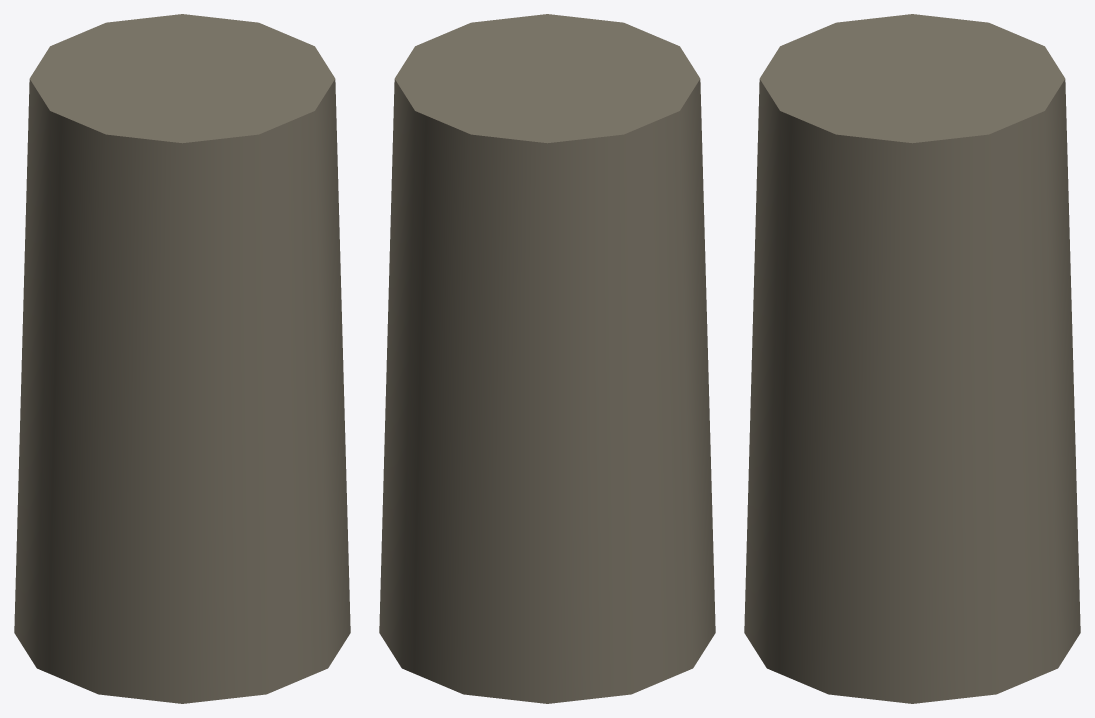
File: column-closed.glb
The picture shows the model from 3 angles, left to right: view 1: azimuth 30°, elevation 25°; view 2: azimuth 150°, elevation 25°; view 3: azimuth 270°, elevation 25°; orthographic projection.
Parts seen in each view (by area): view 1: column-closed; view 2: column-closed; view 3: column-closed.
Part boxes in pixels (<box>): column-closed: <box>14,14,350,703</box>; column-closed: <box>379,14,715,703</box>; column-closed: <box>744,14,1080,703</box>.
Size of the model in its own units: 0.66 by 1.2 by 0.66.
